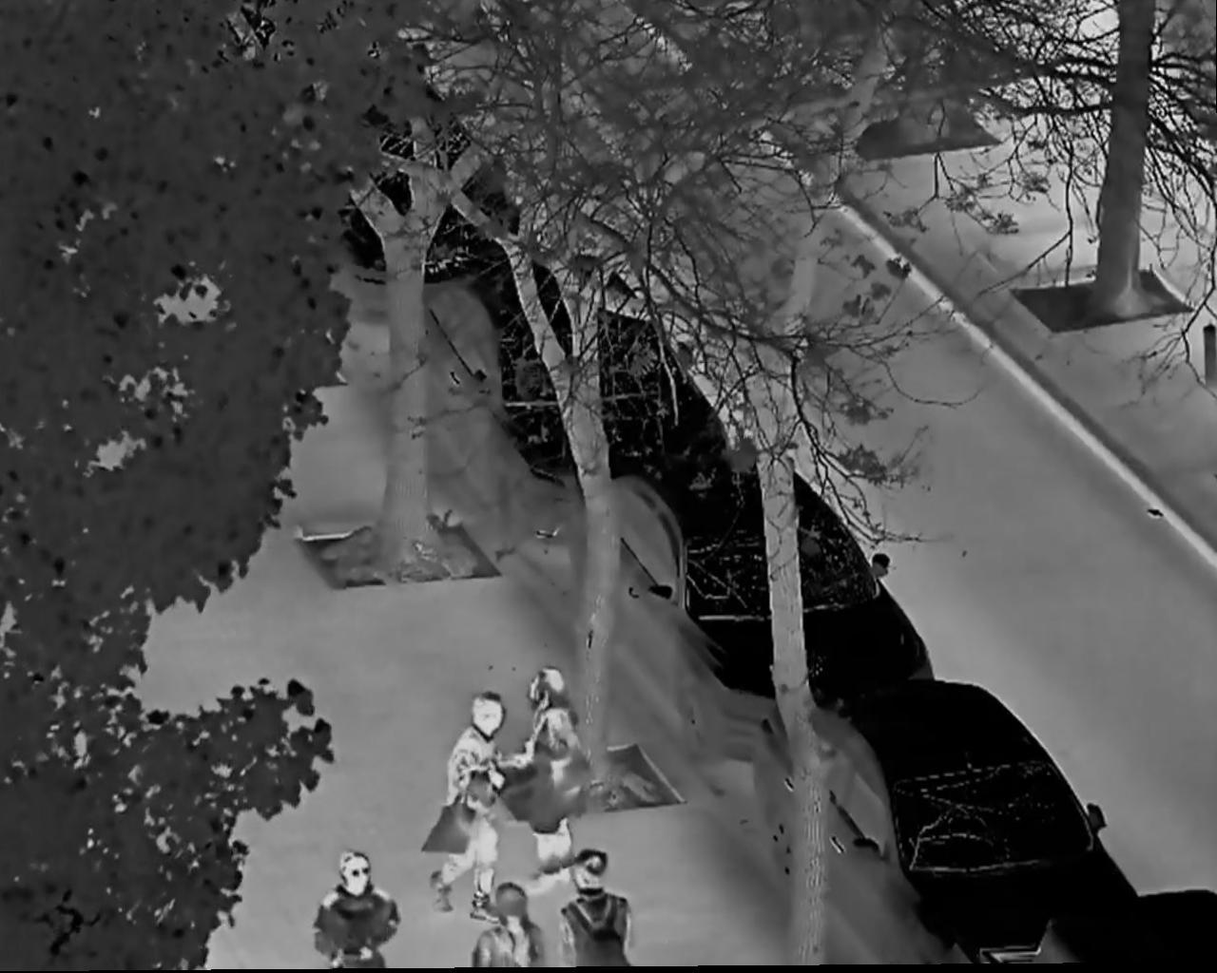person: (440, 693, 518, 919), (505, 671, 586, 883), (306, 846, 402, 973), (560, 846, 632, 973), (475, 887, 545, 973)
